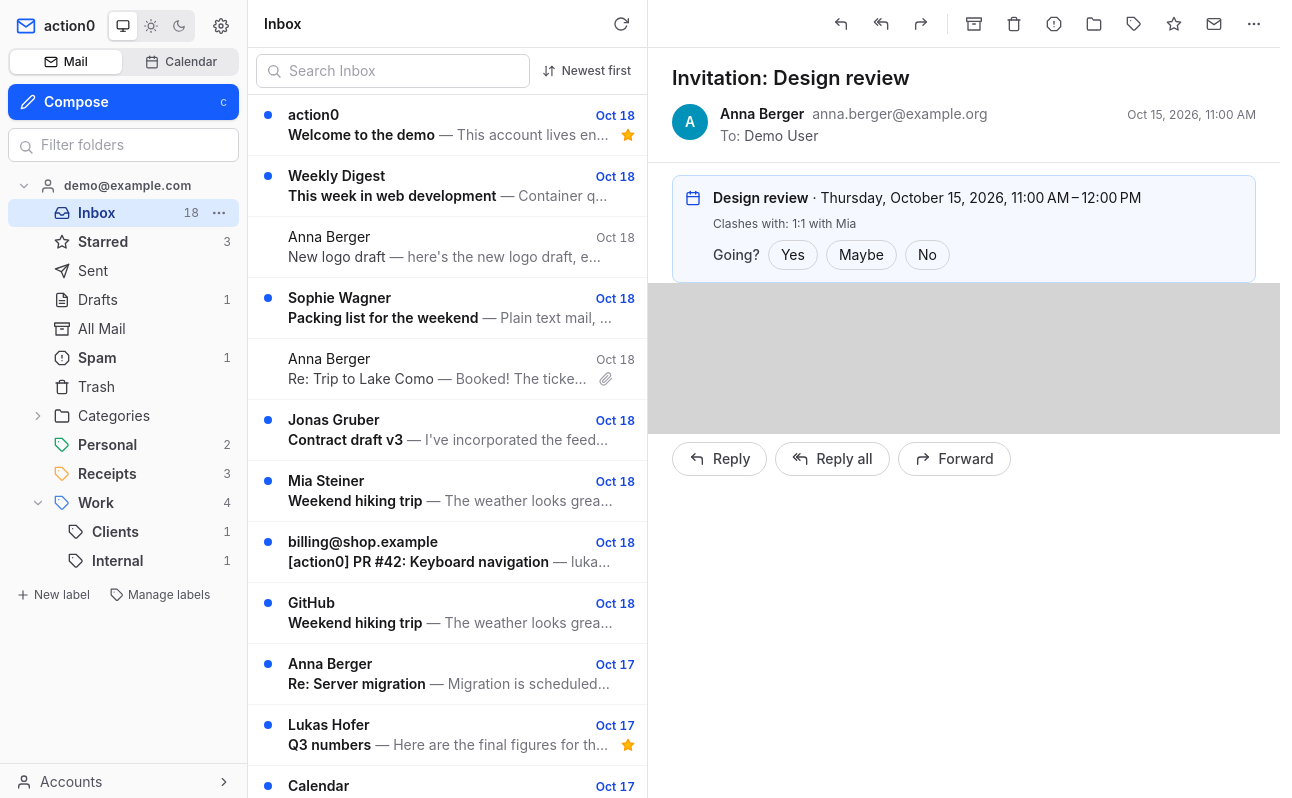
Test: invitations in mail › shows the event, what it clashes with, and the answer buttons
The image size is (1292, 798).
Check: the element named "Invitation" shows "Design review", box [713, 189, 809, 206]
Check: the element named "Invitation" shows "Clashes with: 1:1 with Mia", box [713, 216, 856, 231]
Click the button "Yes". click: (793,255)
box: [768, 240, 818, 270]
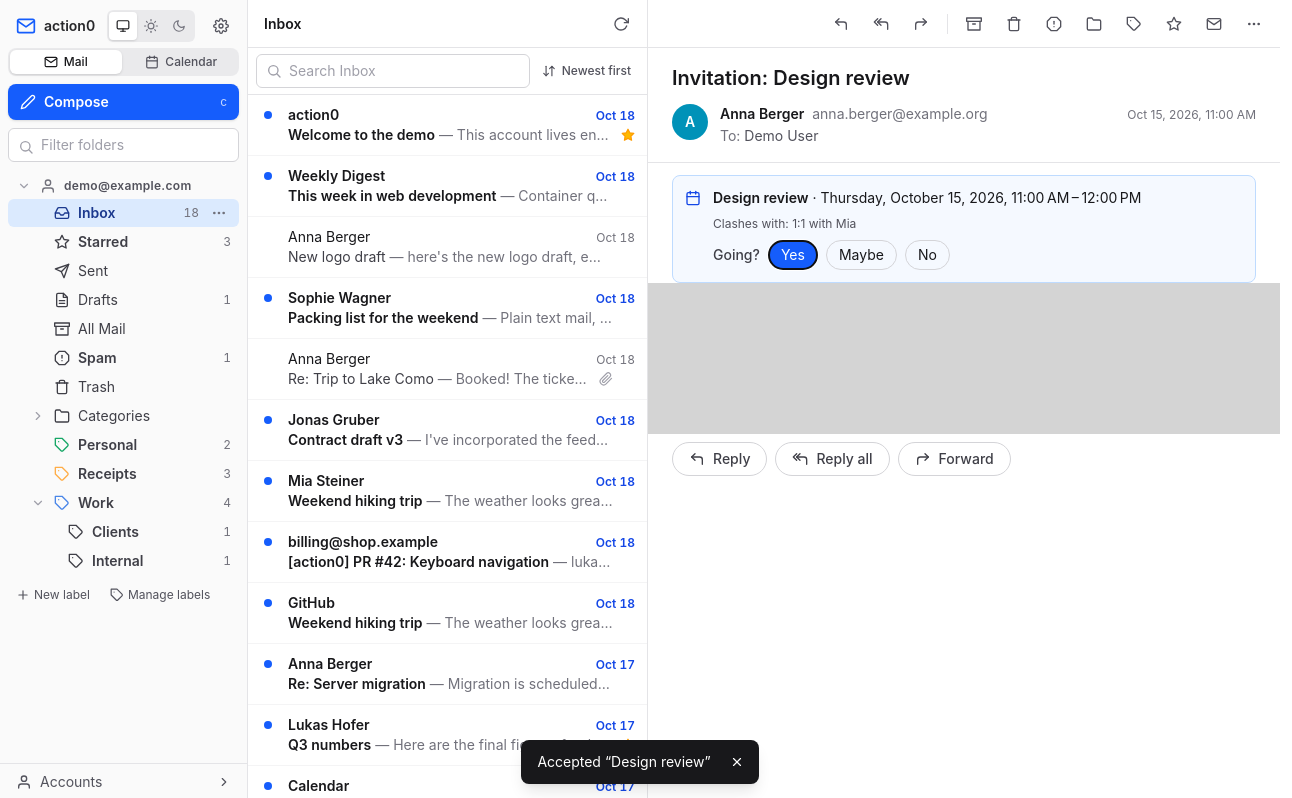
Check: the text "Accepted “Design review”" is shown, box [537, 752, 711, 772]
